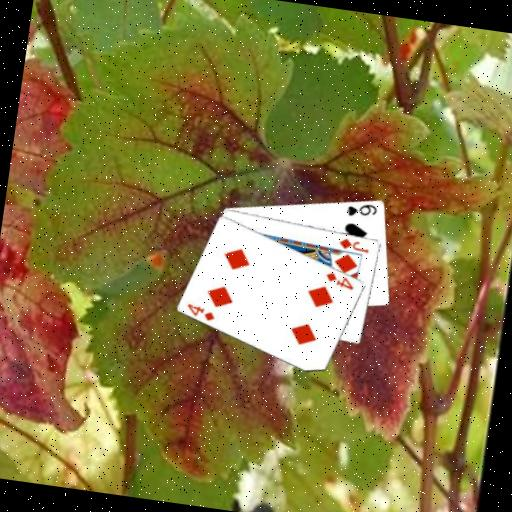4D: (182, 301, 218, 324), (322, 268, 357, 291)
6S: (343, 198, 379, 221)
JD: (335, 234, 371, 255)
